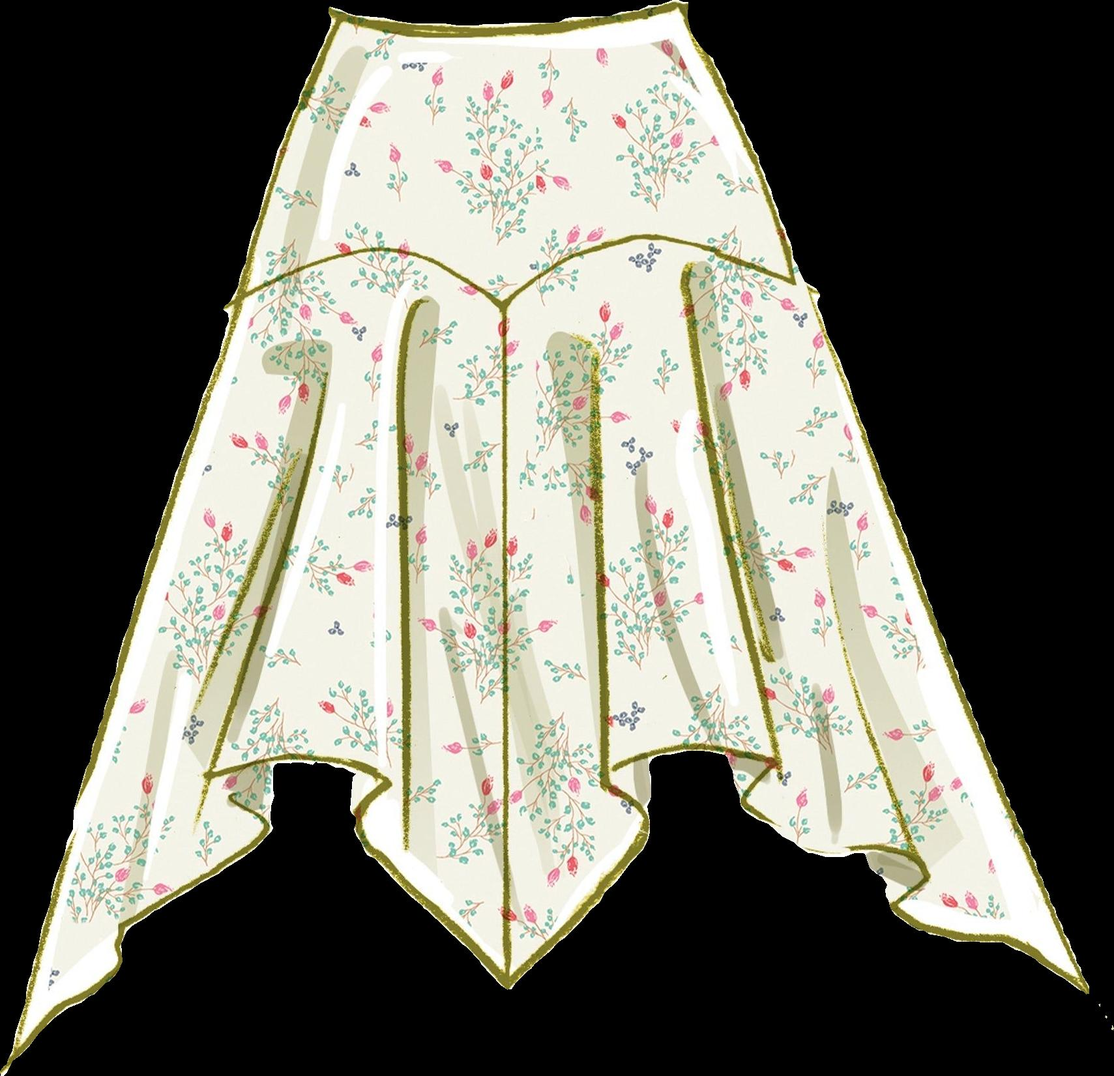Hemline: (0, 744, 1091, 1075)
Waistline: (235, 233, 801, 321), (333, 0, 682, 41)
